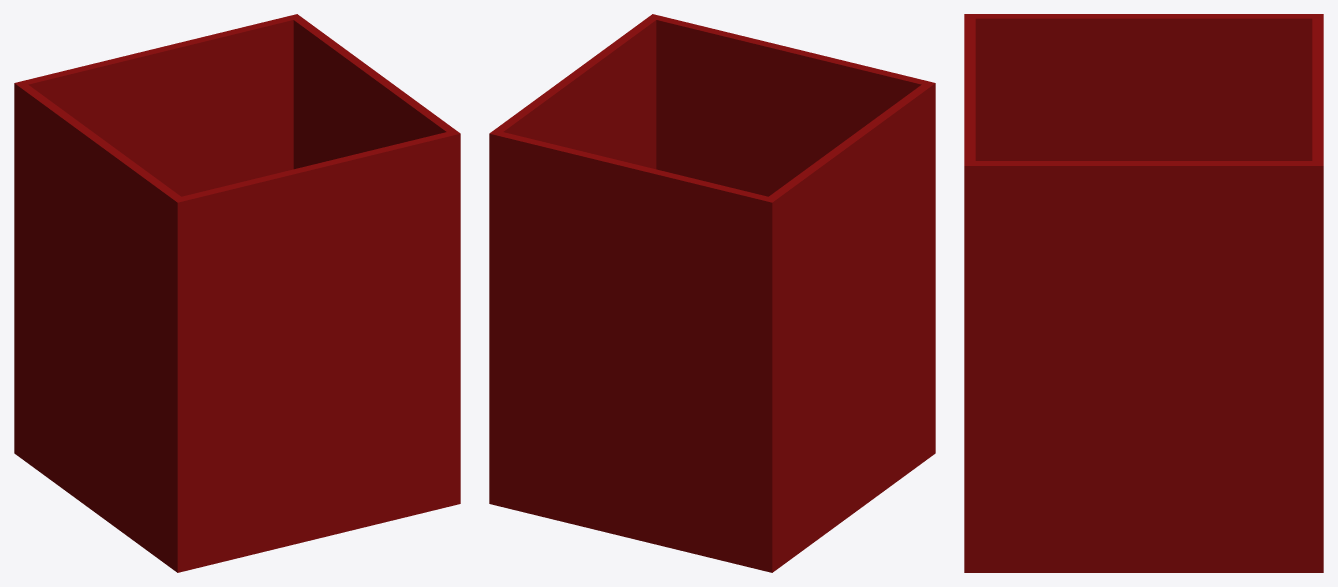
The model's file is 15_NorthEastSouthWest.dae.
3 renders of one model, left to right at view 1: azimuth 30°, elevation 25°; view 2: azimuth 150°, elevation 25°; view 3: azimuth 270°, elevation 25°, orthographic. The views are drawn at different scales.
Parts seen in each view (by area): view 1: Cube; view 2: Cube; view 3: Cube.
Part boxes in pixels (x1,y1,x2,y2): Cube: (14,14,460,572); Cube: (489,14,935,572); Cube: (964,14,1323,572).
Size of the model in its own units: 8 by 8 by 10.
